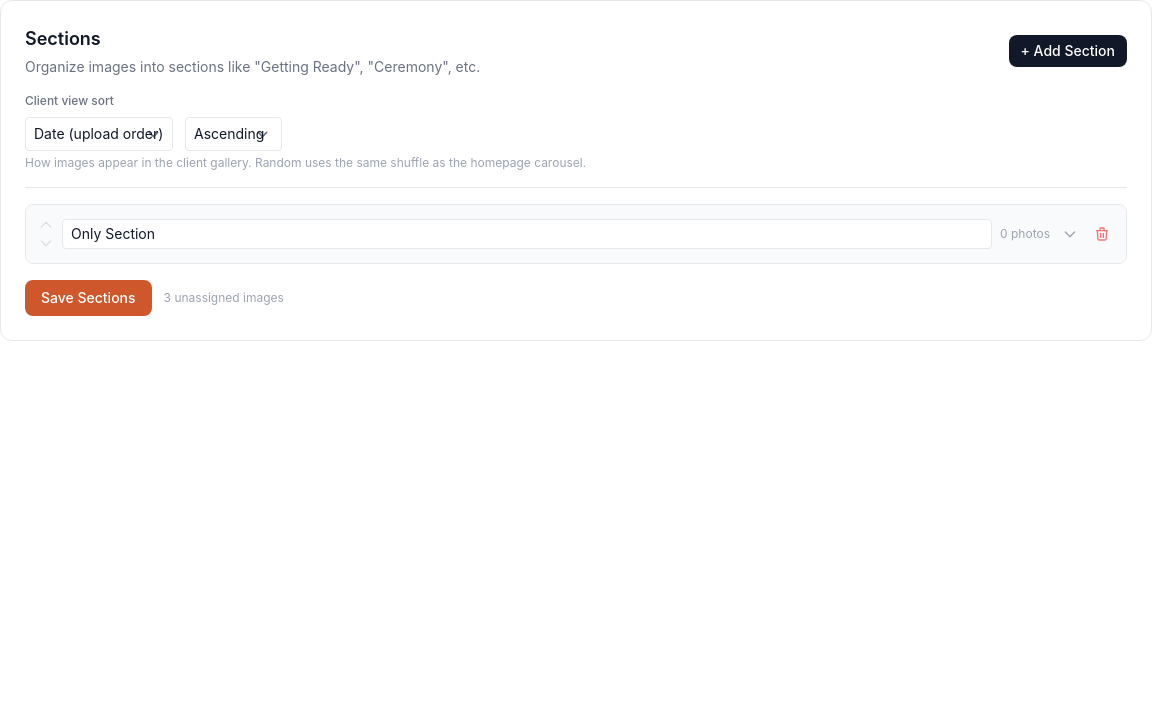
Scenario: SectionManager › persists when deleting all sections
Click the button named "Delete section" at (1102, 234), box [1090,222,1114,246]
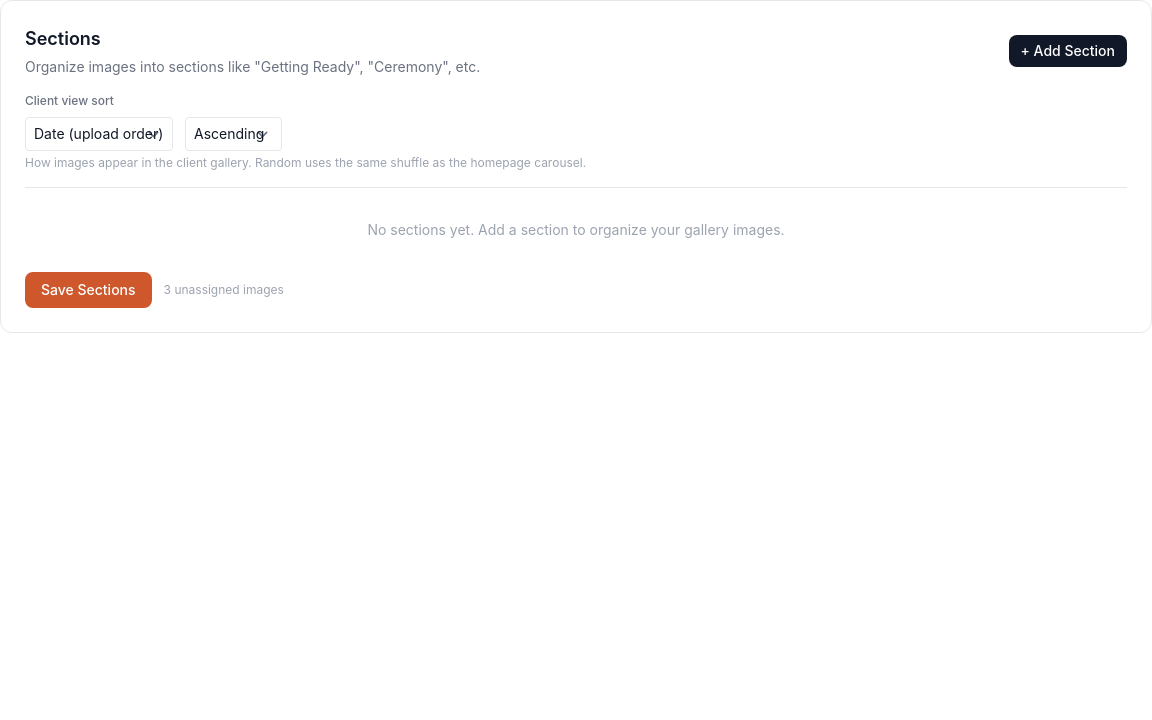
Check: the text "No sections yet. Add a section to organize your gallery images." is shown, box [367,221,785,238]
Click the button "Save Sections" at (88, 290), box [25,272,152,308]
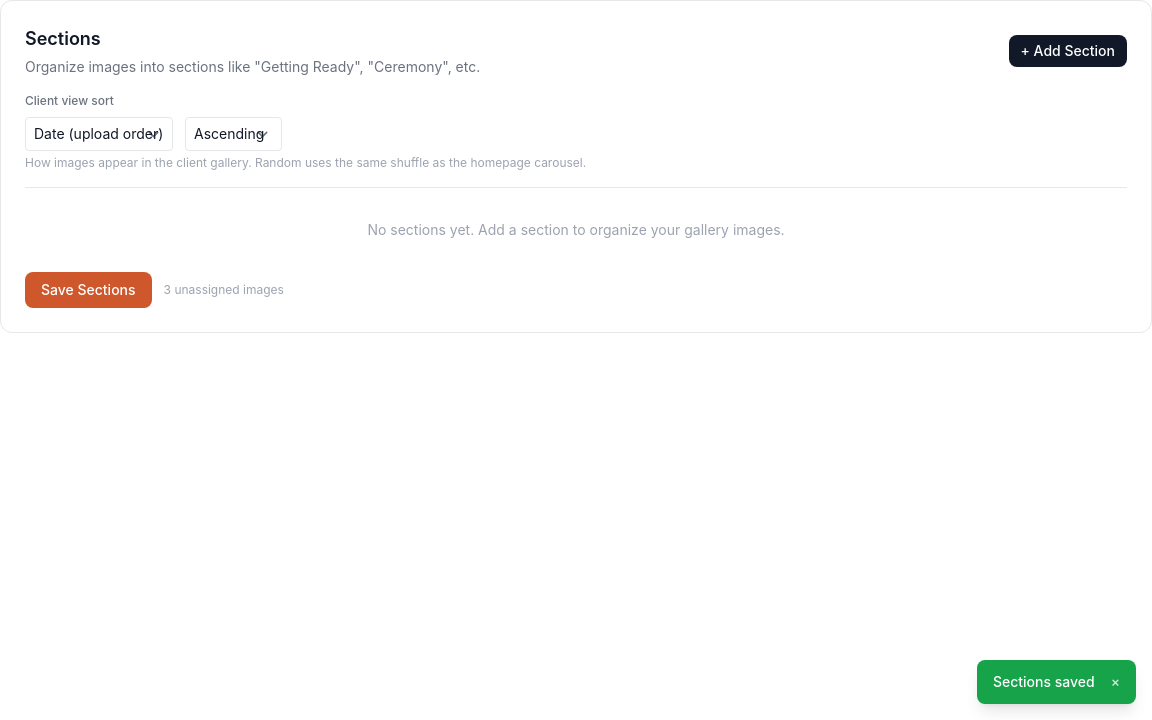
Check: the message shows "Sections saved", box [993,673,1095,690]
